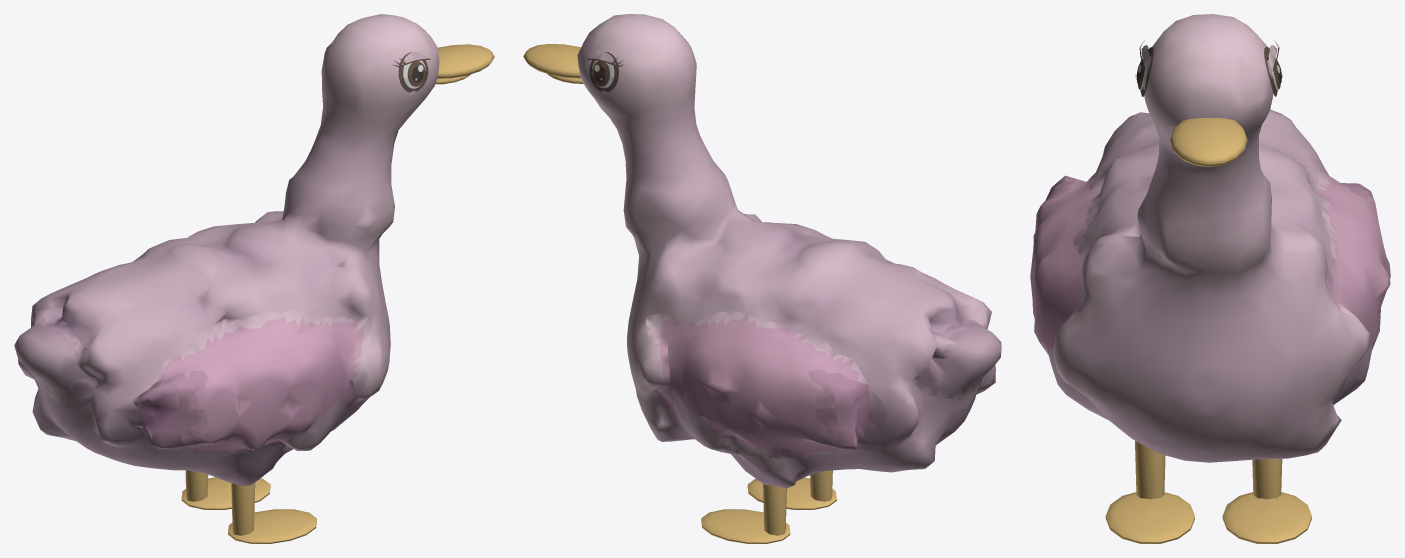
Rendered from pink_goose.glb.
The picture shows the model from 3 angles, left to right: view 1: azimuth 30°, elevation 25°; view 2: azimuth 150°, elevation 25°; view 3: azimuth 270°, elevation 25°; orthographic projection. The views are drawn at different scales.
Visible parts, largest first — view 1: pink_goose; view 2: pink_goose; view 3: pink_goose.
Part boxes in pixels (bbox=[...]): pink_goose: bbox=[14, 14, 494, 543]; pink_goose: bbox=[523, 14, 1001, 543]; pink_goose: bbox=[1030, 14, 1390, 543].
Size of the model in its own units: 0.7062 by 0.6639 by 0.3722.
